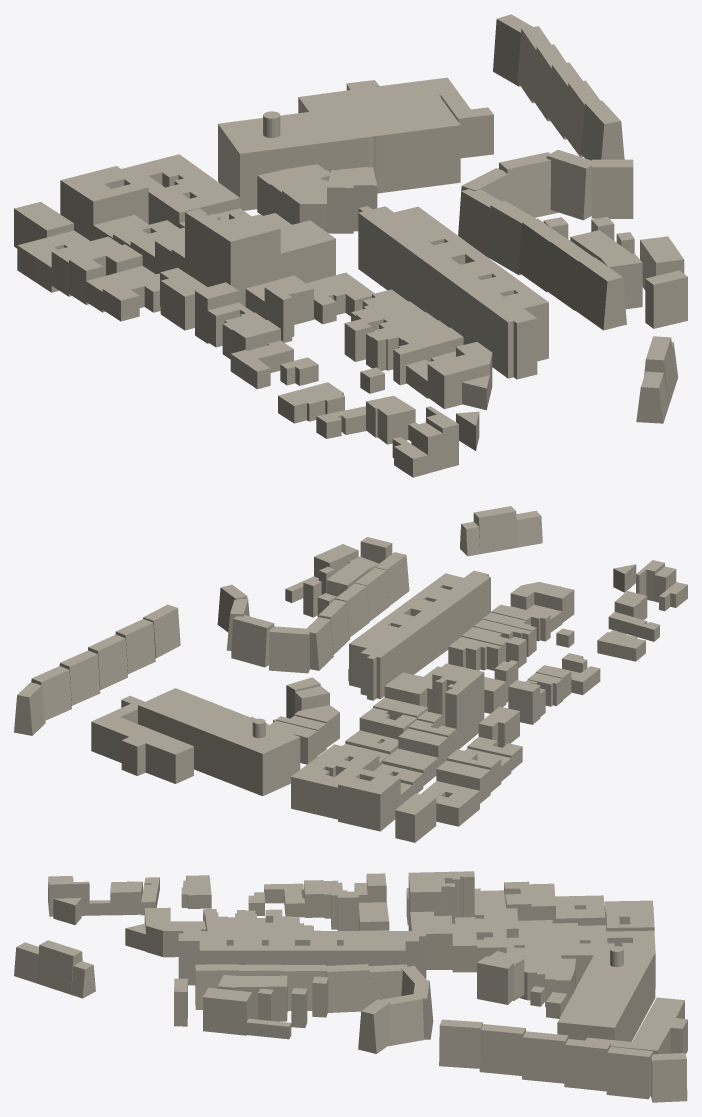
File: bormla_62_29_far.glb
The picture shows the model from 3 angles, top to bottom: view 1: azimuth 30°, elevation 25°; view 2: azimuth 150°, elevation 25°; view 3: azimuth 270°, elevation 25°; orthographic projection. The views are drawn at different scales.
Visible parts, largest first — view 1: geometry_0; view 2: geometry_0; view 3: geometry_0.
Part boxes in pixels (x1,y1,x2,y2): geometry_0: (14,14,687,477); geometry_0: (14,506,687,842); geometry_0: (14,871,687,1102).
Bounding box in the file's own units: 140 × 26.46 × 188.
